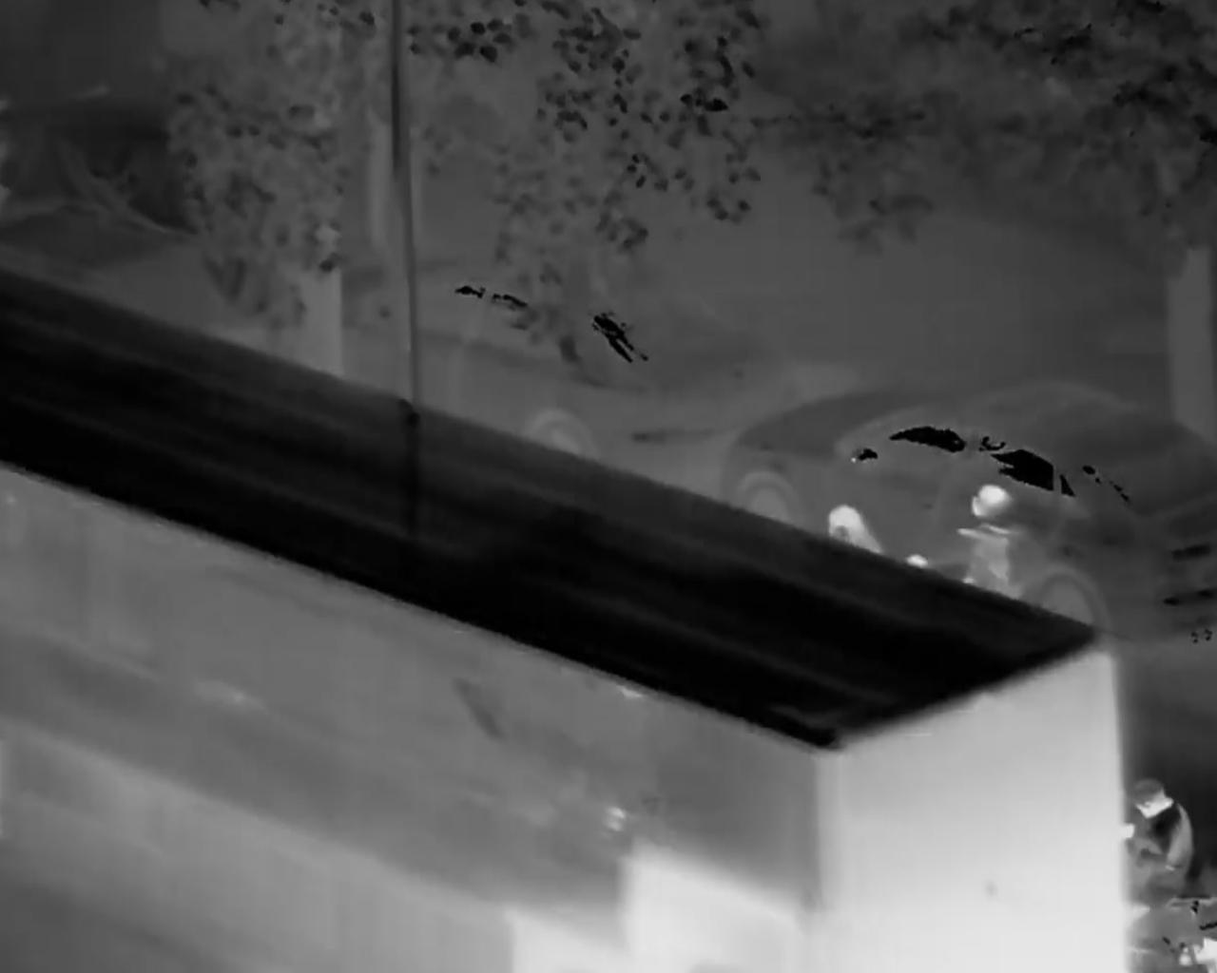person: (951, 488, 1056, 626)
